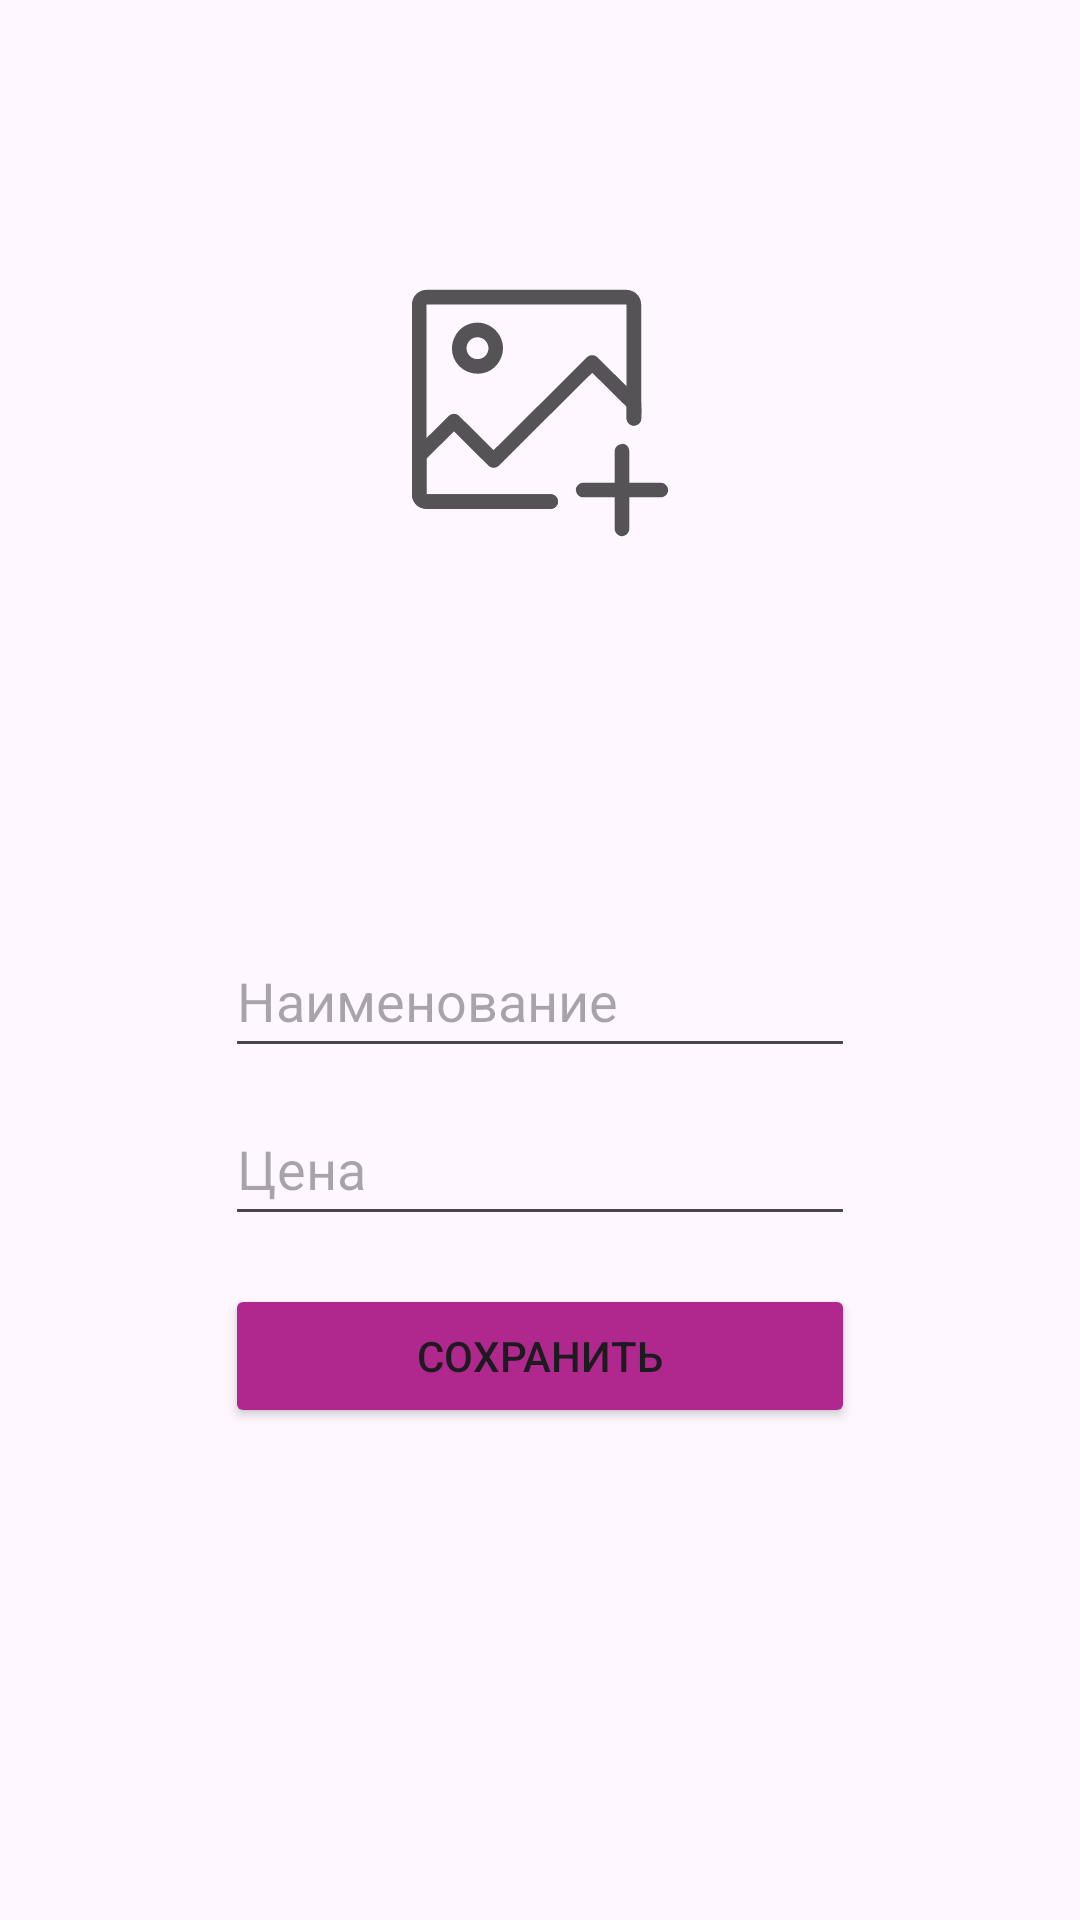

Where to tap for icons on this 1080px×1920px app screen, as [x,y]:
add im: [540,413]
